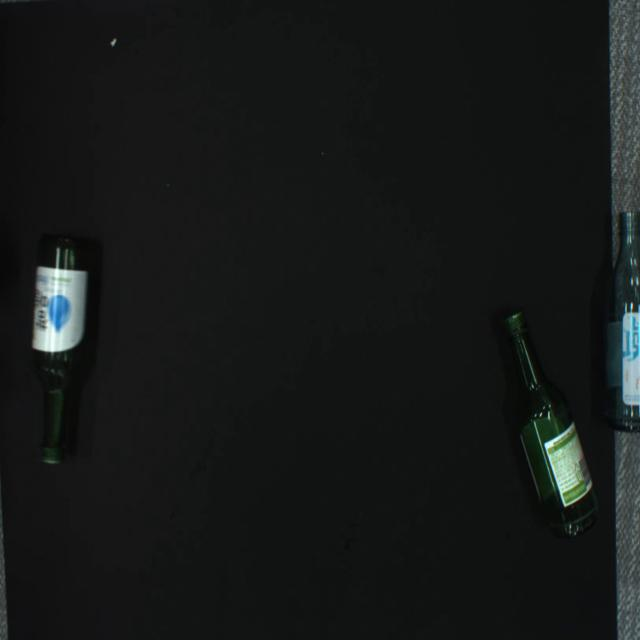soju-bottle: (504, 312, 602, 539), (29, 237, 90, 464), (604, 208, 640, 432)
